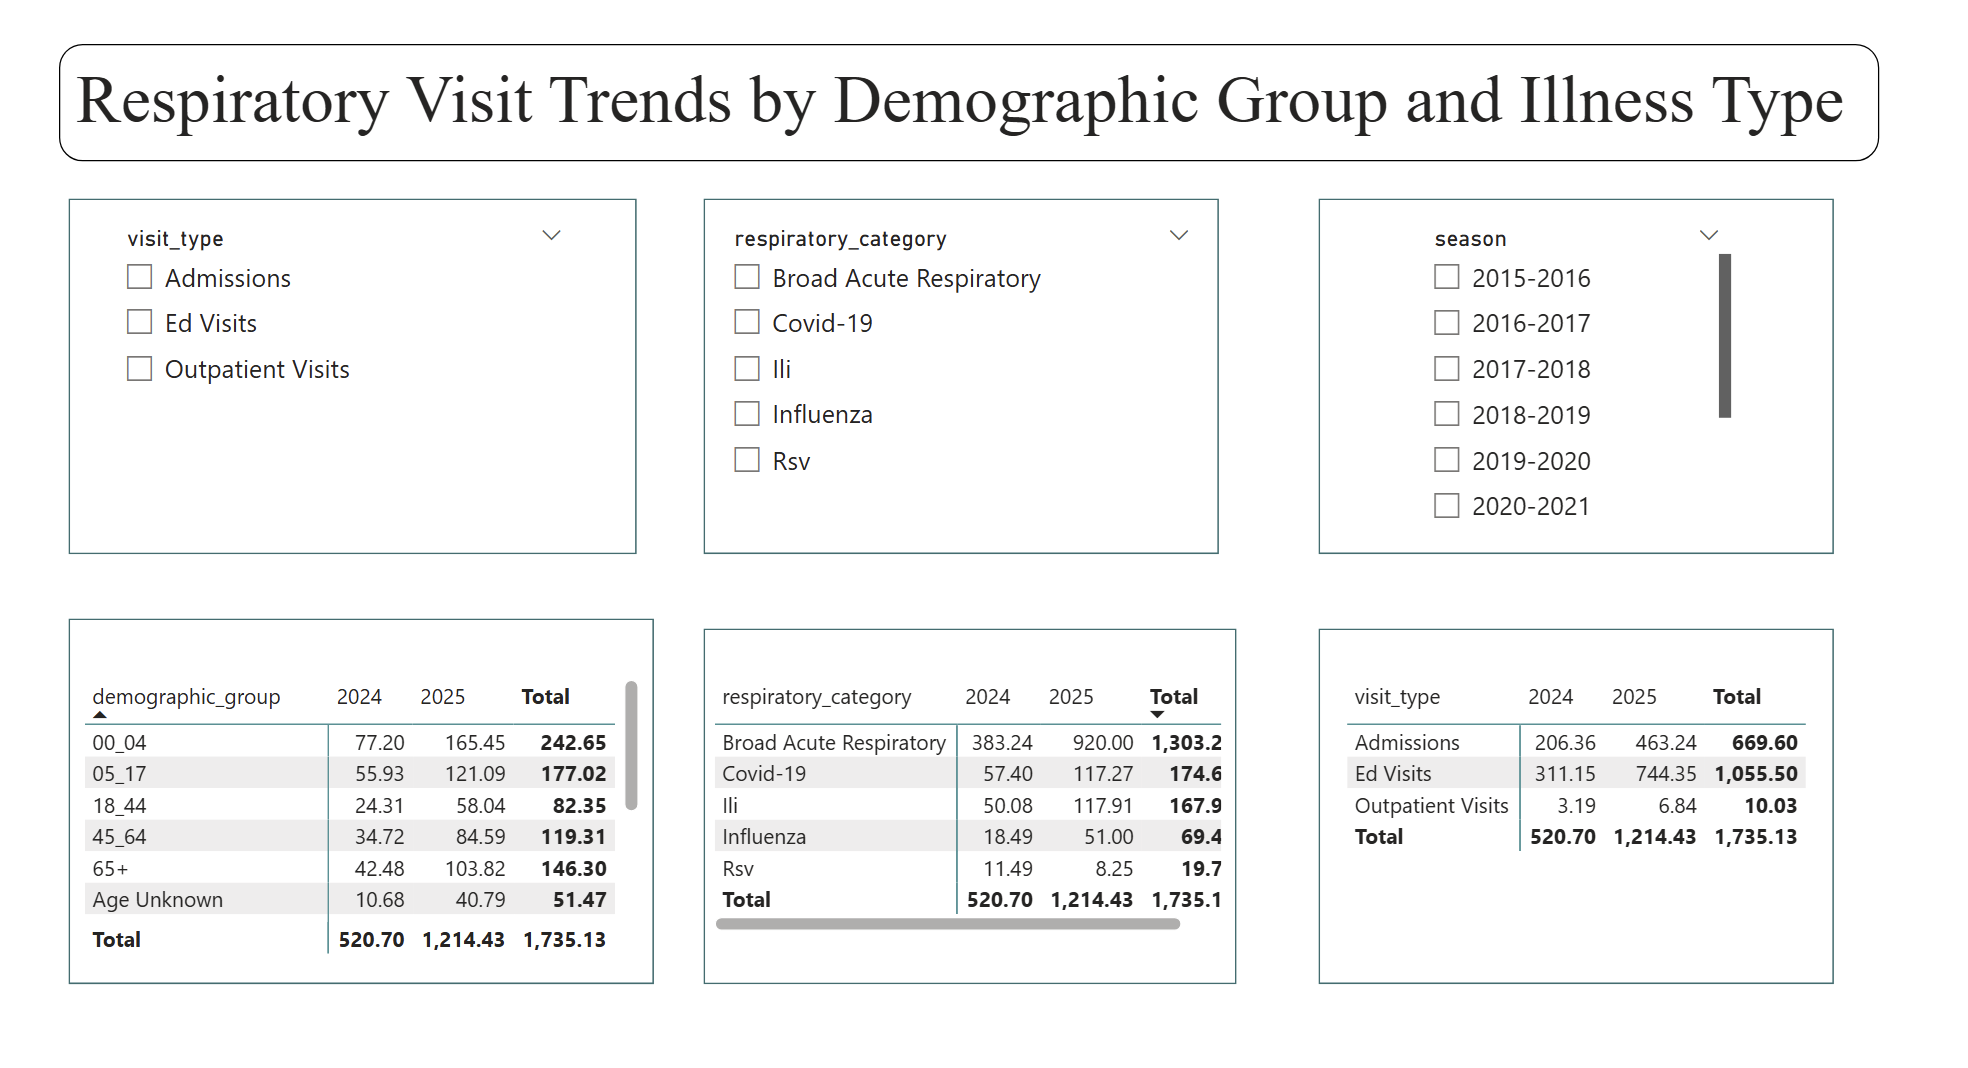

Layout of this report page (visuals, bound fields, positions):
{"tool":"powerbi","page":{"name":"Respiratory Visit Trends by Demographic Group and Illness Type","canvas":[1280,720],"ordinal":1},"visuals":[{"type":"pivotTable","fields":{"Rows":["Inpatient_Respiratory_Visits_Cleaned.demographic_group"],"Values":["Sum(Inpatient_Respiratory_Visits_Cleaned.percent)"],"Columns":["Inpatient_Respiratory_Visits_Cleaned.current_week_ending.Variation.Date Hierarchy.Year","Inpatient_Respiratory_Visits_Cleaned.current_week_ending.Variation.Date Hierarchy.Quarter","Inpatient_Respiratory_Visits_Cleaned.current_week_ending.Variation.Date Hierarchy.Month","Inpatient_Respiratory_Visits_Cleaned.current_week_ending.Variation.Date Hierarchy.Day"]},"box":[59.6,356.3,368.6,341],"z":0},{"type":"pivotTable","fields":{"Columns":["Inpatient_Respiratory_Visits_Cleaned.current_week_ending.Variation.Date Hierarchy.Year","Inpatient_Respiratory_Visits_Cleaned.current_week_ending.Variation.Date Hierarchy.Quarter","Inpatient_Respiratory_Visits_Cleaned.current_week_ending.Variation.Date Hierarchy.Month","Inpatient_Respiratory_Visits_Cleaned.current_week_ending.Variation.Date Hierarchy.Day"],"Rows":["Inpatient_Respiratory_Visits_Cleaned.respiratory_category"],"Values":["Sum(Inpatient_Respiratory_Visits_Cleaned.percent)"]},"box":[498.6,356.3,356.3,191.2],"z":1000},{"type":"pivotTable","fields":{"Values":["Sum(Inpatient_Respiratory_Visits_Cleaned.percent)"],"Rows":["Inpatient_Respiratory_Visits_Cleaned.visit_type"],"Columns":["Inpatient_Respiratory_Visits_Cleaned.current_week_ending.Variation.Date Hierarchy.Year","Inpatient_Respiratory_Visits_Cleaned.current_week_ending.Variation.Date Hierarchy.Quarter","Inpatient_Respiratory_Visits_Cleaned.current_week_ending.Variation.Date Hierarchy.Month","Inpatient_Respiratory_Visits_Cleaned.current_week_ending.Variation.Date Hierarchy.Day"]},"box":[919.1,356.3,313.5,125.4],"z":2000},{"type":"slicer","fields":{"Values":["Inpatient_Respiratory_Visits_Cleaned.season"]},"box":[919.1,133.1,206.5,200.3],"z":3000},{"type":"slicer","fields":{"Values":["Inpatient_Respiratory_Visits_Cleaned.respiratory_category"]},"box":[498.6,133.1,356.3,172.8],"z":4000},{"type":"slicer","fields":{"Values":["Inpatient_Respiratory_Visits_Cleaned.visit_type"]},"box":[59.6,133.1,368.6,133.1],"z":5000},{"type":"textbox","box":[59.6,47.4,1173,64.2],"z":6000}]}

Visuals, with their boxes on the page's 1280x720 design canvas (x1, y1, x2, y2). These are canvas units, not pixel positions in the 1968x1068 screenshot, which may show the page scaled, cropped or inside an application window:
pivotTable - Inpatient_Respiratory_Visits_Cleaned.demographic_group x Sum(Inpatient_Respiratory_Visits_Cleaned.percent): <box>60,356,428,697</box>
pivotTable - Inpatient_Respiratory_Visits_Cleaned.current_week_ending.Variation.Date Hierarchy.Year x Inpatient_Respiratory_Visits_Cleaned.current_week_ending.Variation.Date Hierarchy.Quarter: <box>499,356,855,548</box>
pivotTable - Sum(Inpatient_Respiratory_Visits_Cleaned.percent) x Inpatient_Respiratory_Visits_Cleaned.visit_type: <box>919,356,1233,482</box>
slicer - Inpatient_Respiratory_Visits_Cleaned.season: <box>919,133,1126,333</box>
slicer - Inpatient_Respiratory_Visits_Cleaned.respiratory_category: <box>499,133,855,306</box>
slicer - Inpatient_Respiratory_Visits_Cleaned.visit_type: <box>60,133,428,266</box>
textbox: <box>60,47,1233,112</box>
